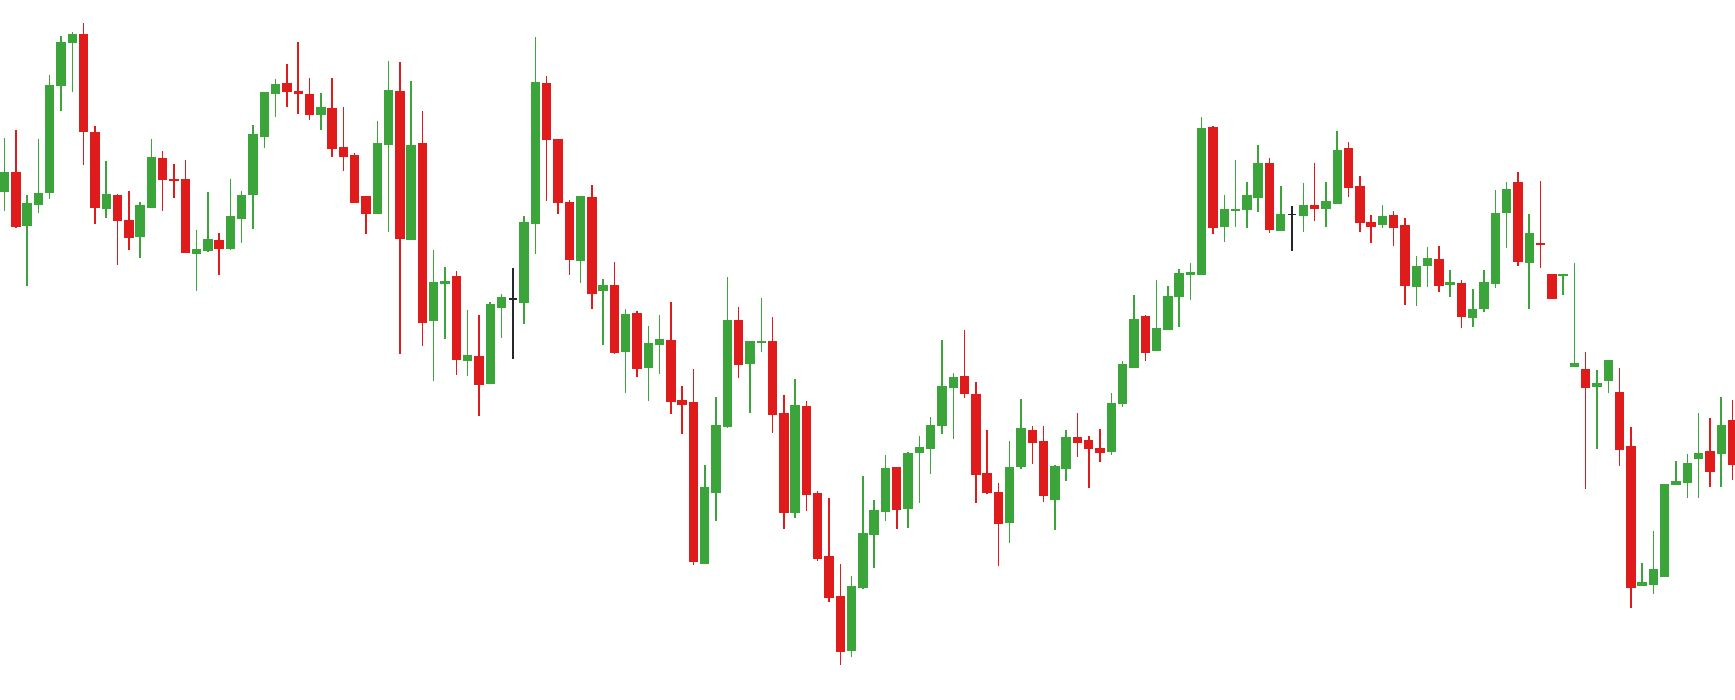buy: (891, 420, 1015, 570), (111, 189, 202, 299)
sell: (383, 39, 552, 224), (1400, 175, 1526, 286), (663, 281, 745, 445), (1251, 133, 1355, 220)
